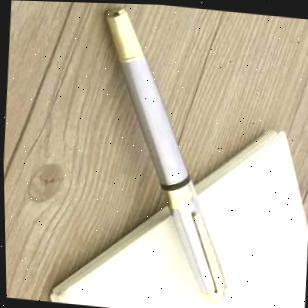pen-pencil: (106, 7, 226, 302)
